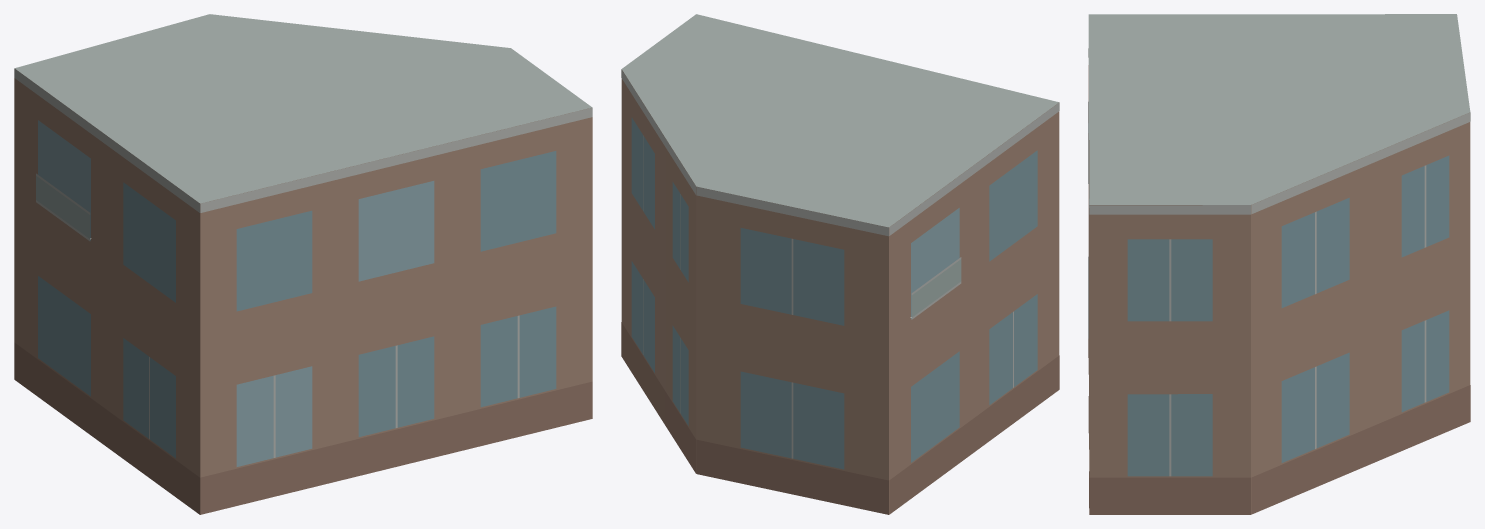
Rendered from survey-upis-32704617.glb.
3 views of the same model, side by side, from view 1: azimuth 30°, elevation 25°; view 2: azimuth 150°, elevation 25°; view 3: azimuth 270°, elevation 25° (orthographic). The views are drawn at different scales.
Visible parts, largest first — view 1: survey-upis-32704617.tmp; view 2: survey-upis-32704617.tmp; view 3: survey-upis-32704617.tmp.
Boxes of the visible parts, bbox=[...] form: survey-upis-32704617.tmp: bbox=[14, 14, 592, 514]; survey-upis-32704617.tmp: bbox=[621, 14, 1059, 514]; survey-upis-32704617.tmp: bbox=[1088, 14, 1470, 514].
Size of the model in its own units: 10.49 by 7.9 by 8.84.
